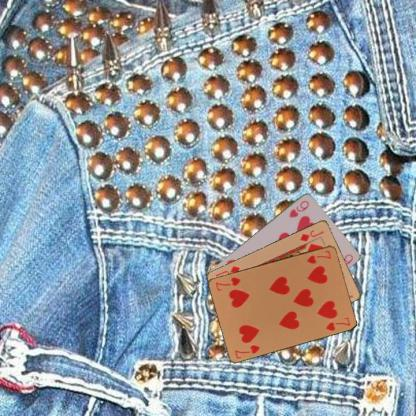7h: (304, 247, 334, 265), (232, 342, 261, 360)
9h: (287, 197, 310, 218)
Jd: (298, 227, 325, 243)
